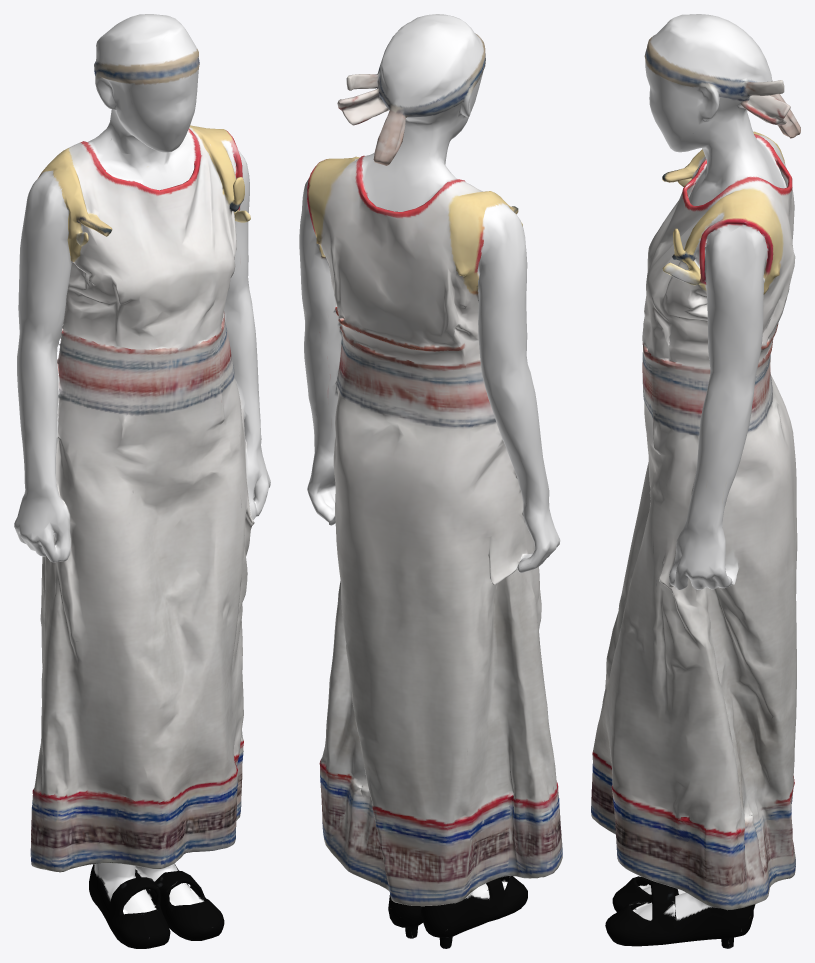
Rendered from Xo_dang_nu_00001.glb.
3 views of the same model, side by side, from view 1: azimuth 30°, elevation 25°; view 2: azimuth 150°, elevation 25°; view 3: azimuth 270°, elevation 25° (orthographic). The views are drawn at different scales.
Size of the model in its own units: 0.2507 by 0.8911 by 0.1837.
Materials: 1 (1 with a texture image).
